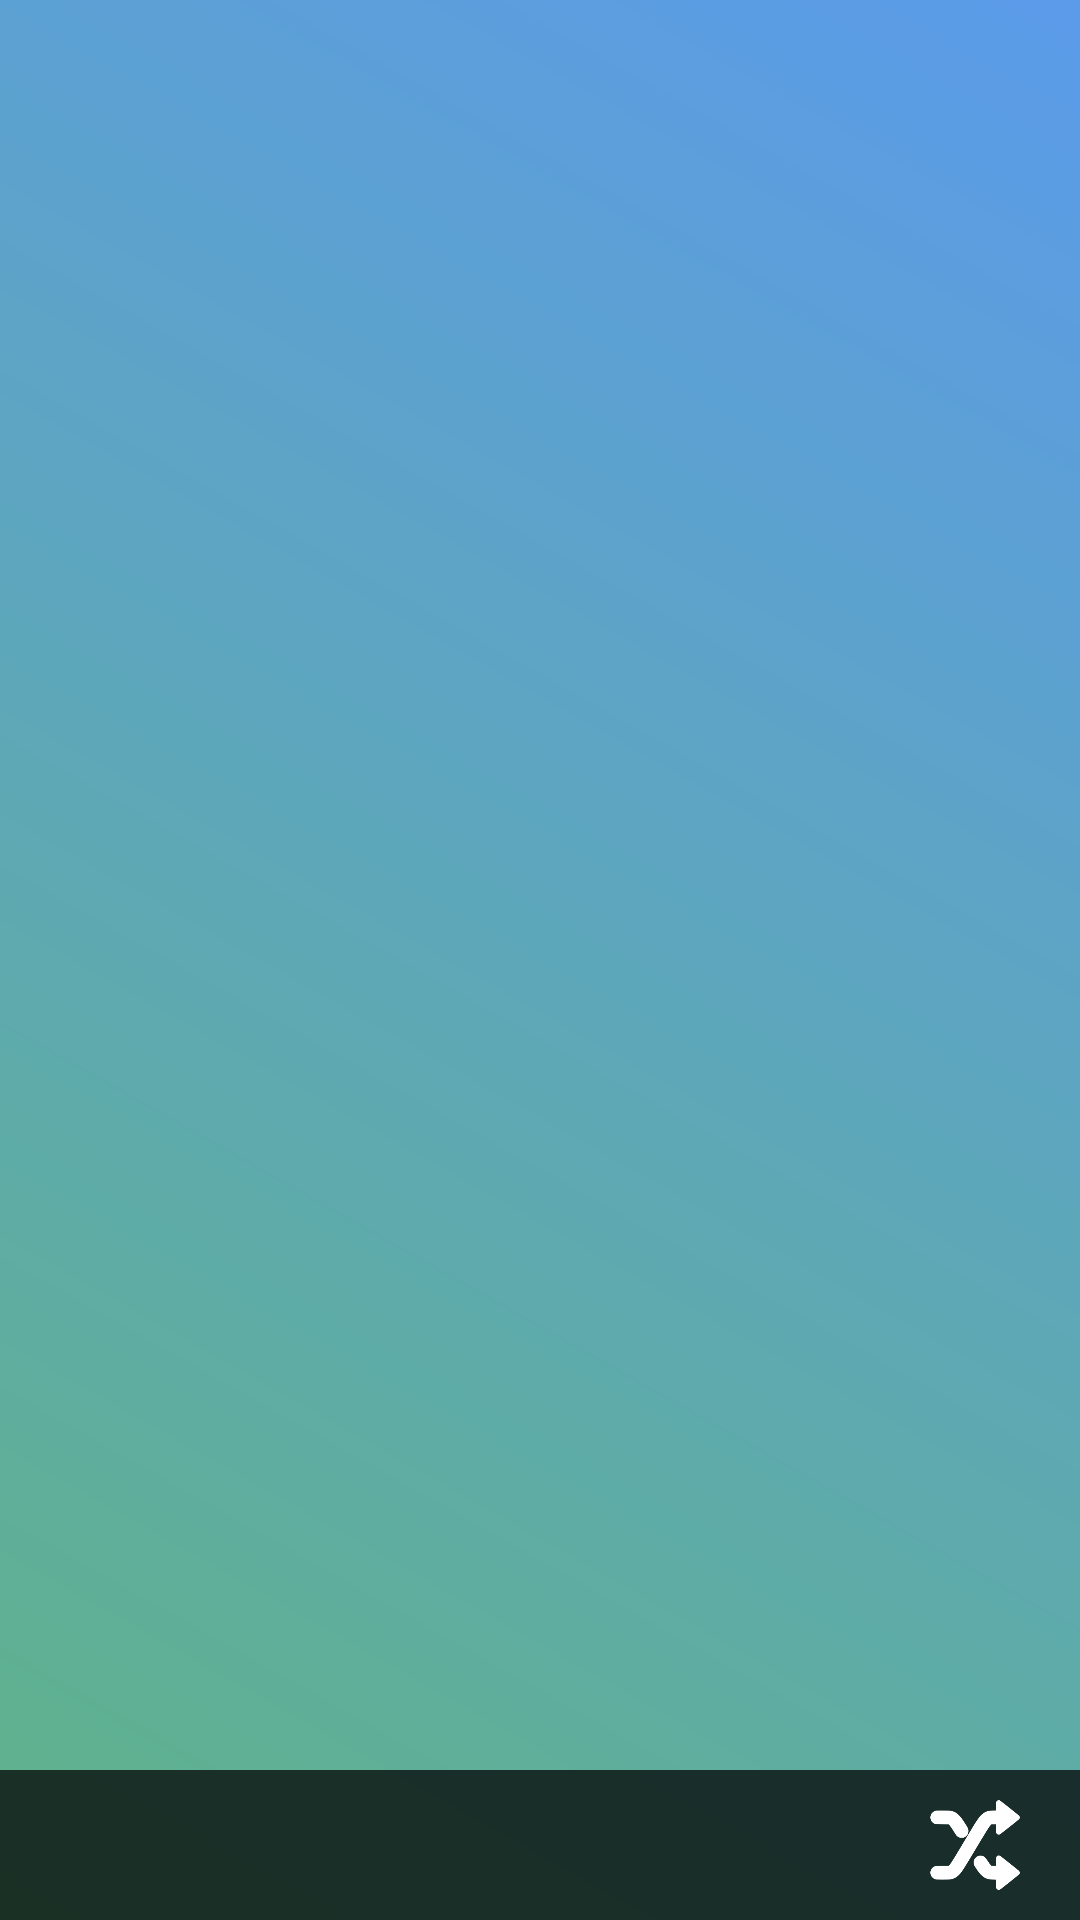

Where to tap for icons on this 1080*1920 app screen, as point (x, y):
shuffle: point (975, 1845)
